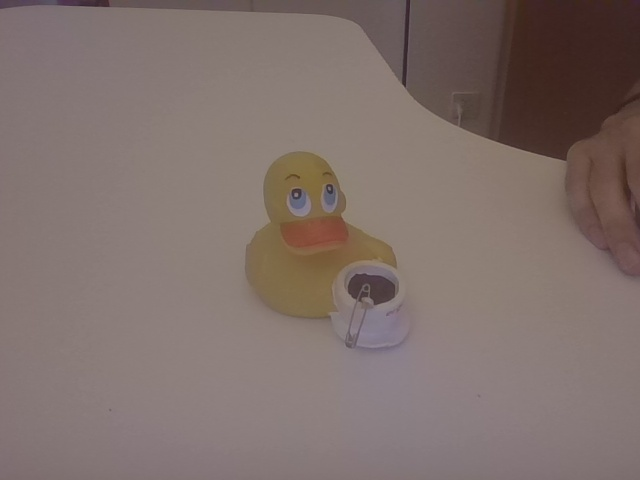duck: (230, 146, 418, 354)
